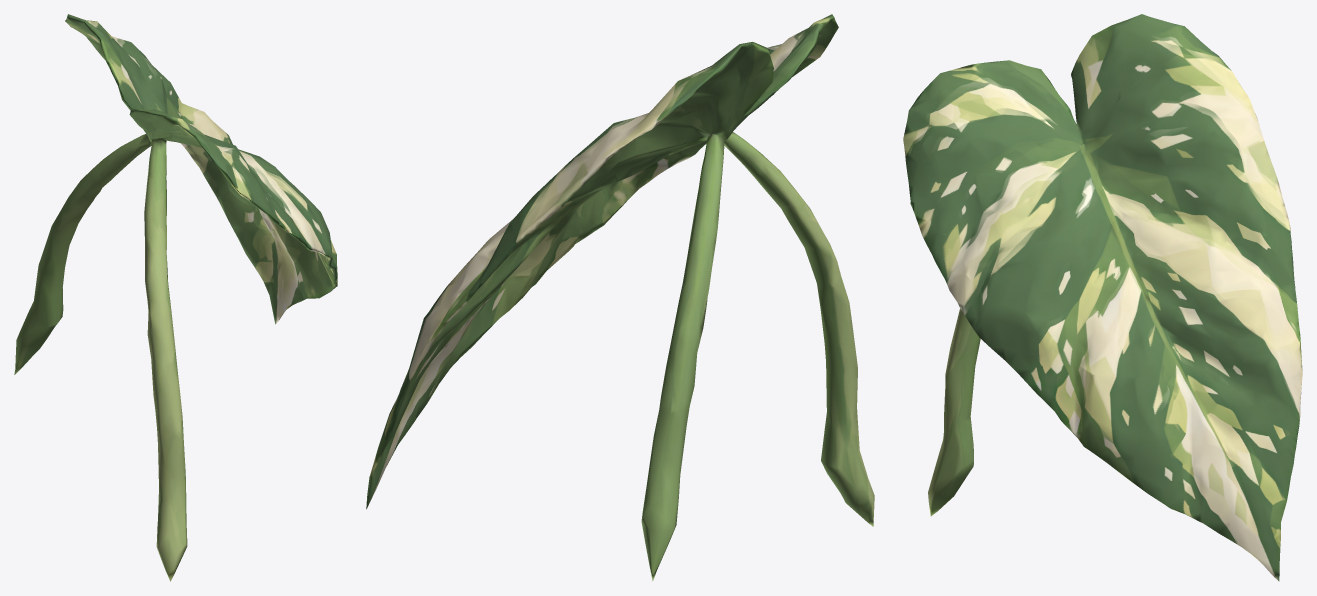
Rendered from sc_mature_marblequeen_tripo.glb.
3 views of the same model, side by side, from view 1: azimuth 30°, elevation 25°; view 2: azimuth 150°, elevation 25°; view 3: azimuth 270°, elevation 25° (orthographic). The views are drawn at different scales.
Parts seen in each view (by area): view 1: tripo_node_d061b27a-2a46-440b-9775-fa33c968c646; view 2: tripo_node_d061b27a-2a46-440b-9775-fa33c968c646; view 3: tripo_node_d061b27a-2a46-440b-9775-fa33c968c646.
Part boxes in pixels (<box>): tripo_node_d061b27a-2a46-440b-9775-fa33c968c646: <box>14,14,337,581</box>; tripo_node_d061b27a-2a46-440b-9775-fa33c968c646: <box>366,14,874,581</box>; tripo_node_d061b27a-2a46-440b-9775-fa33c968c646: <box>903,14,1302,581</box>.
Bounding box in the file's own units: 0.5963 × 1 × 0.7098.
Materials: 1 (1 with a texture image).
